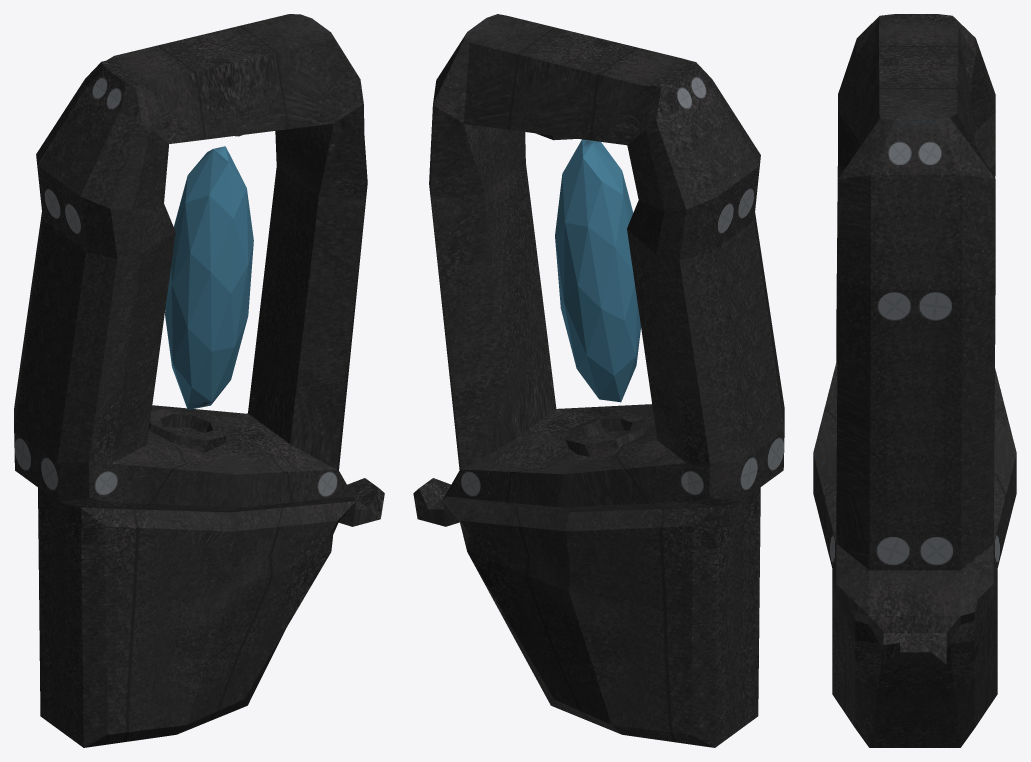
File: Laser_reciever_Tyla.fbx
3 renders of one model, left to right at view 1: azimuth 30°, elevation 25°; view 2: azimuth 150°, elevation 25°; view 3: azimuth 270°, elevation 25°, orthographic. The views are drawn at different scales.
Visible parts, largest first — view 1: receiver_laser; view 2: receiver_laser; view 3: receiver_laser.
Boxes of the visible parts, x1,y1,x2,y2 form: receiver_laser: [14, 14, 384, 747]; receiver_laser: [413, 14, 784, 747]; receiver_laser: [813, 14, 1016, 747].
Bounding box in the file's own units: 17.63 × 31.69 × 8.6.
